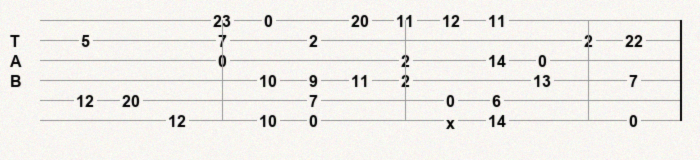0: (218, 52, 231, 68), (264, 12, 277, 28), (309, 112, 322, 128), (446, 92, 459, 108), (538, 52, 551, 68), (629, 112, 642, 128)
10: (259, 112, 281, 128), (259, 72, 281, 88)
11: (351, 72, 373, 88), (396, 12, 418, 28), (488, 12, 510, 28)
12: (76, 92, 98, 108), (168, 112, 190, 128), (442, 12, 464, 28)
13: (533, 72, 555, 88)
14: (488, 52, 510, 68), (488, 112, 510, 128)
2: (309, 32, 322, 48), (401, 72, 414, 88), (401, 52, 414, 68), (584, 32, 597, 48)
20: (122, 92, 144, 108), (351, 12, 373, 28)
22: (625, 32, 647, 48)
23: (213, 12, 235, 28)
5: (81, 32, 94, 48)
6: (492, 92, 505, 108)
7: (218, 32, 231, 48), (309, 92, 322, 108), (629, 72, 642, 88)
9: (309, 72, 322, 88)
x: (446, 114, 459, 127)
